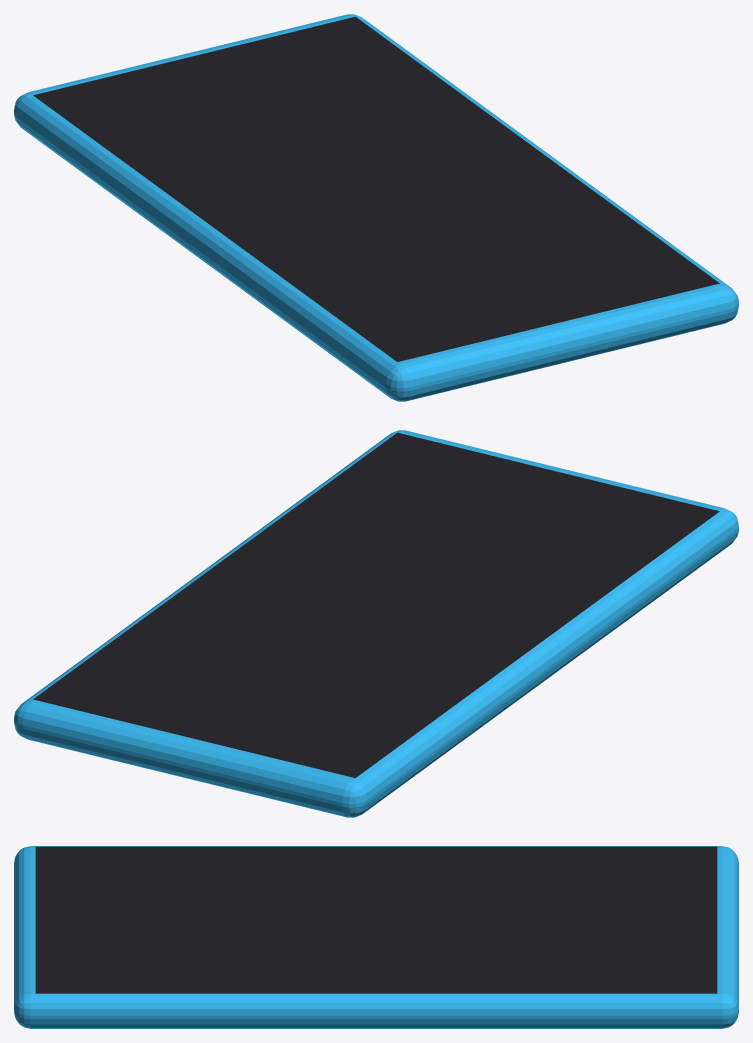
The model's file is realme-gen-2024-budget-2024.glb.
The picture shows the model from 3 angles, top to bottom: view 1: azimuth 30°, elevation 25°; view 2: azimuth 150°, elevation 25°; view 3: azimuth 270°, elevation 25°; orthographic projection. The views are drawn at different scales.
Visible parts, largest first — view 1: Phone_Screen, Phone_Body; view 2: Phone_Screen, Phone_Body; view 3: Phone_Screen, Phone_Body.
Part boxes in pixels (bbox=[...]): Phone_Screen: bbox=[33, 16, 719, 361]; Phone_Body: bbox=[14, 14, 738, 401]; Phone_Screen: bbox=[33, 432, 719, 777]; Phone_Body: bbox=[14, 430, 738, 817]; Phone_Screen: bbox=[35, 846, 717, 993]; Phone_Body: bbox=[14, 846, 738, 1028].
Size of the model in its own units: 0.077 by 0.0077 by 0.1475.
